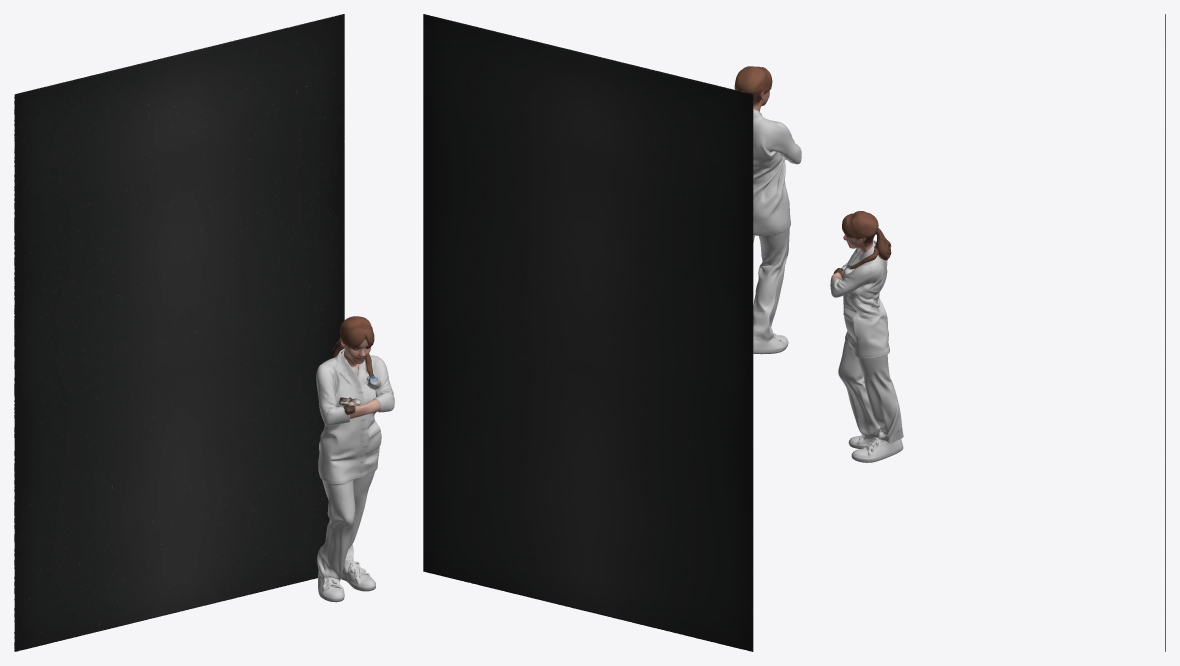
The model's file is sample_2026-09-17T170935.928.glb.
3 renders of one model, left to right at view 1: azimuth 30°, elevation 25°; view 2: azimuth 150°, elevation 25°; view 3: azimuth 270°, elevation 25°, orthographic. The views are drawn at different scales.
Visible parts, largest first — view 1: world; view 2: world; view 3: world.
Part boxes in pixels (<box>): world: <box>14,14,394,651</box>; world: <box>423,14,801,651</box>; world: <box>830,14,1165,651</box>.
Size of the model in its own units: 0.6136 by 0.9905 by 0.6074.
Materials: 1 (1 with a texture image).
